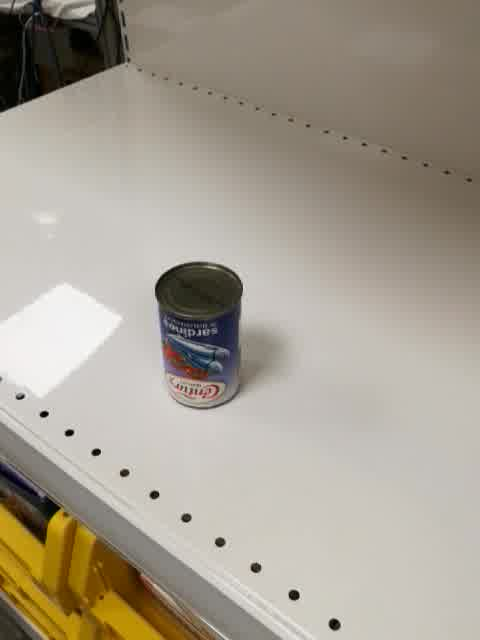sardine: (154, 261, 244, 410)
